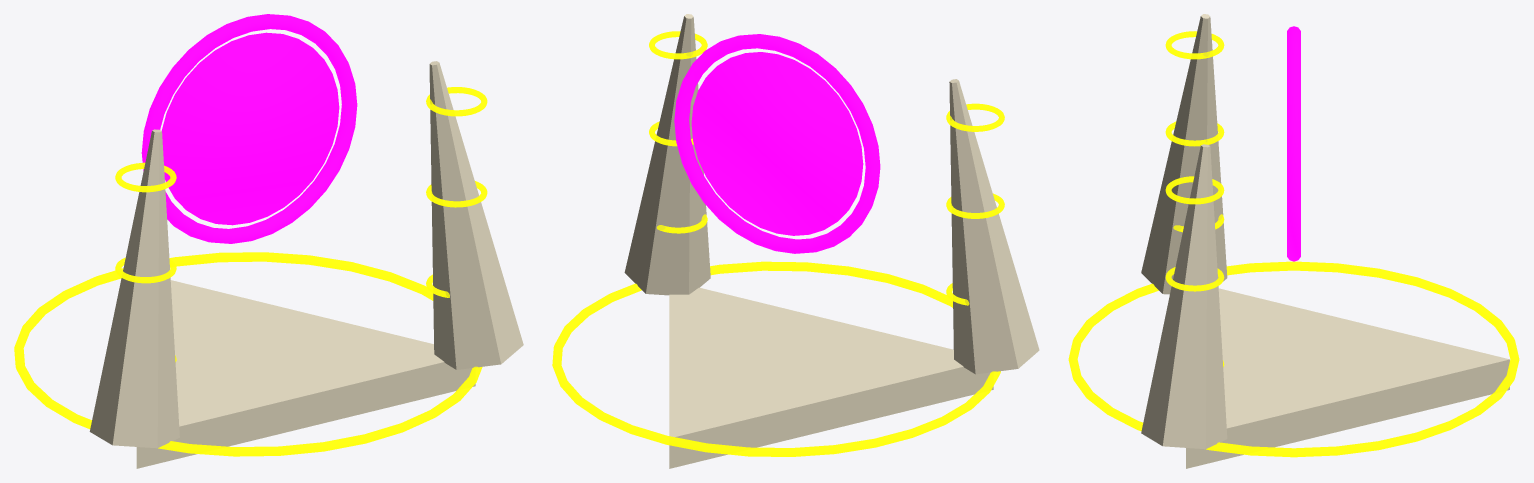
The model's file is solar_manifestation_gateway.glb.
The picture shows the model from 3 angles, left to right: view 1: azimuth 30°, elevation 25°; view 2: azimuth 150°, elevation 25°; view 3: azimuth 270°, elevation 25°; orthographic projection. The views are drawn at different scales.
Parts seen in each view (by area): view 1: SolarManifestationGateway; view 2: SolarManifestationGateway; view 3: SolarManifestationGateway.
Boxes of the visible parts, bbox=[...] form: SolarManifestationGateway: bbox=[14, 14, 523, 468]; SolarManifestationGateway: bbox=[552, 14, 1039, 468]; SolarManifestationGateway: bbox=[1068, 14, 1519, 468].
Bounding box in the file's own units: 3.79 × 3.24 × 3.76.
